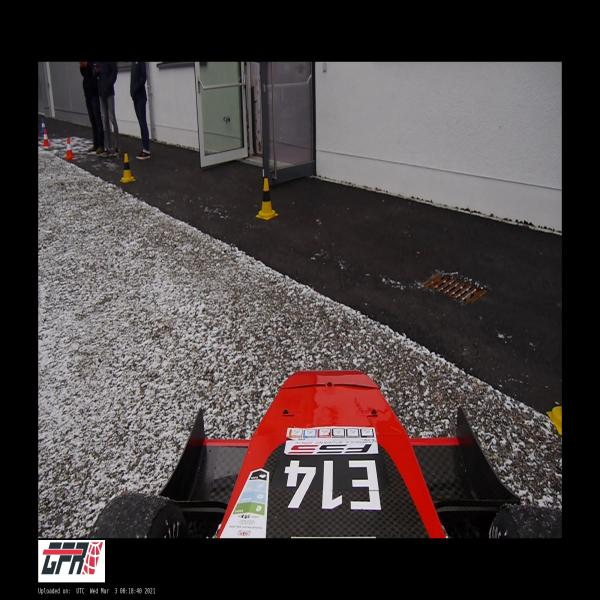blue_cone: (41, 119, 47, 132)
orange_cone: (64, 137, 74, 160), (42, 129, 50, 146)
yellow_cone: (256, 178, 278, 220), (546, 402, 561, 437), (120, 154, 135, 183)
